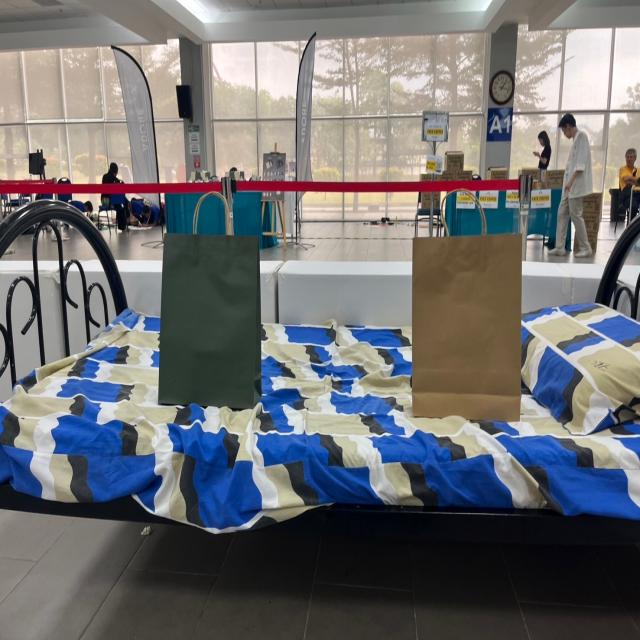bag: (155, 166, 256, 407), (420, 180, 514, 412)
